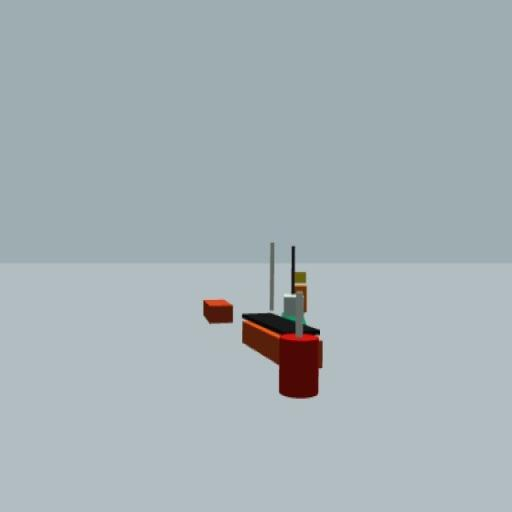debris_container: (202, 298, 234, 326)
floating_obstacle: (279, 288, 320, 401)
